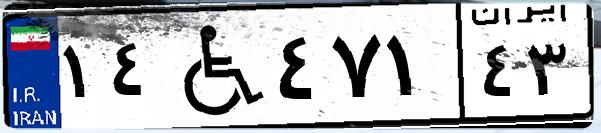1: (385, 28, 445, 110), (57, 26, 110, 100)
3: (525, 38, 570, 115)
4: (270, 28, 330, 110), (475, 38, 525, 113), (110, 28, 158, 98)
7: (330, 28, 385, 110)
ژ (معلولین و جانبازان): (158, 12, 270, 120)
